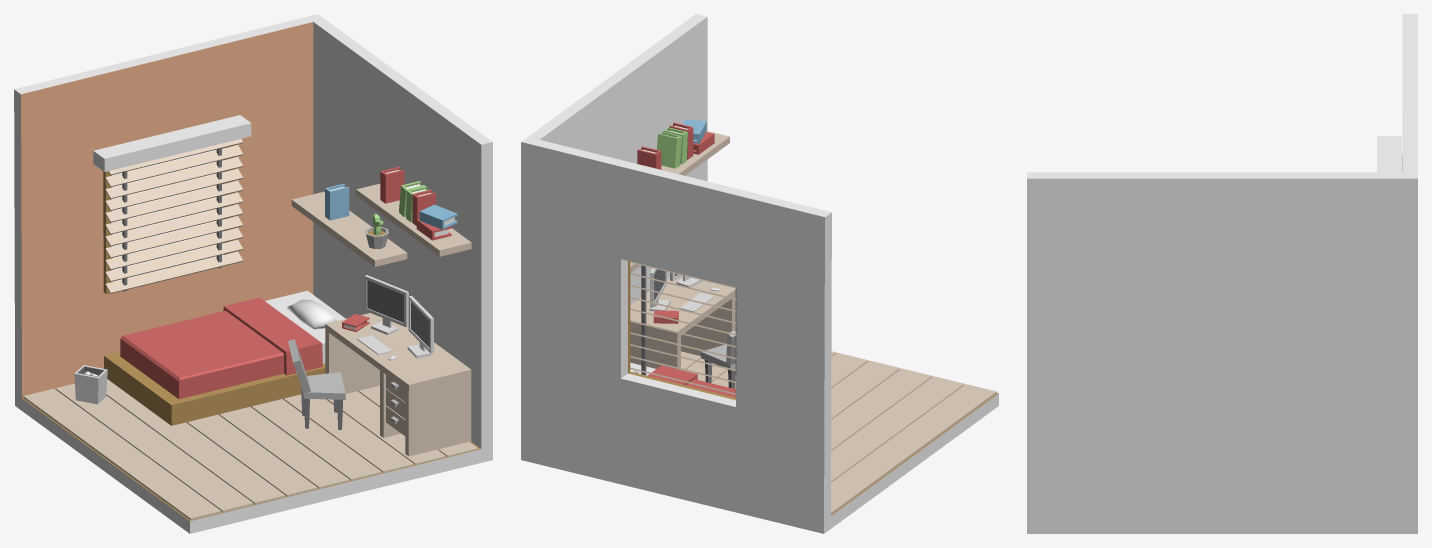
File: testbedroom.glb
3 renders of one model, left to right at view 1: azimuth 30°, elevation 25°; view 2: azimuth 150°, elevation 25°; view 3: azimuth 270°, elevation 25°, orthographic. The views are drawn at different scales.
Parts seen in each view (by area): view 1: shell, floor, window, bed, table, books, shelf2, shelf1, monitor1, chair, monitor2, trashcan (+2 smaller); view 2: shell, floor, table, window, books, bed, chair, shelf1, monitor1; view 3: shell, window.
Boxes of the visible parts, bbox=[...] form: shell: bbox=[14, 14, 492, 533]; floor: bbox=[23, 379, 478, 520]; window: bbox=[93, 115, 251, 293]; bed: bbox=[104, 290, 345, 425]; table: bbox=[325, 313, 471, 456]; books: bbox=[380, 166, 457, 240]; shelf2: bbox=[291, 191, 407, 266]; shelf1: bbox=[356, 183, 471, 256]; monitor1: bbox=[364, 275, 408, 334]; chair: bbox=[288, 339, 345, 429]; monitor2: bbox=[407, 295, 433, 358]; trashcan: bbox=[74, 365, 107, 404]; shell: bbox=[521, 14, 998, 533]; floor: bbox=[681, 351, 996, 514]; table: bbox=[630, 276, 735, 369]; window: bbox=[630, 261, 736, 397]; books: bbox=[637, 119, 714, 169]; bed: bbox=[630, 362, 735, 397]; chair: bbox=[701, 330, 735, 388]; shelf1: bbox=[661, 131, 729, 175]; monitor1: bbox=[649, 268, 670, 311]; shell: bbox=[1027, 14, 1417, 533]; window: bbox=[1377, 136, 1401, 172].
Bounding box in the file's own units: 2.01 × 2.01 × 2.
